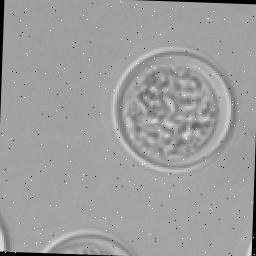picoshell: (110, 47, 235, 172), (42, 228, 134, 254), (0, 215, 8, 250)
